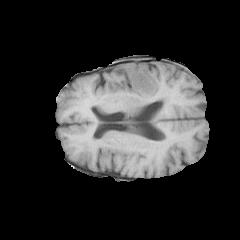glioma: (103, 63, 159, 104)
